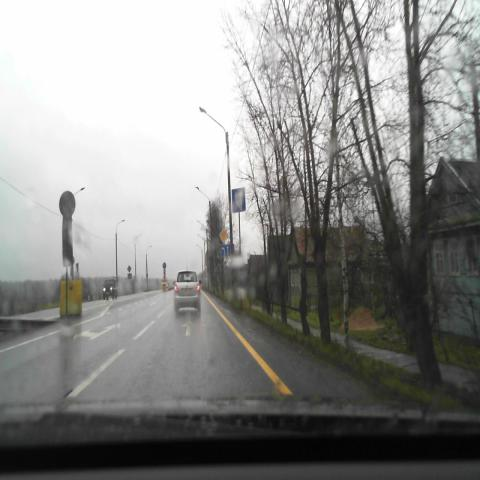5_15_3: (232, 186, 246, 213)
